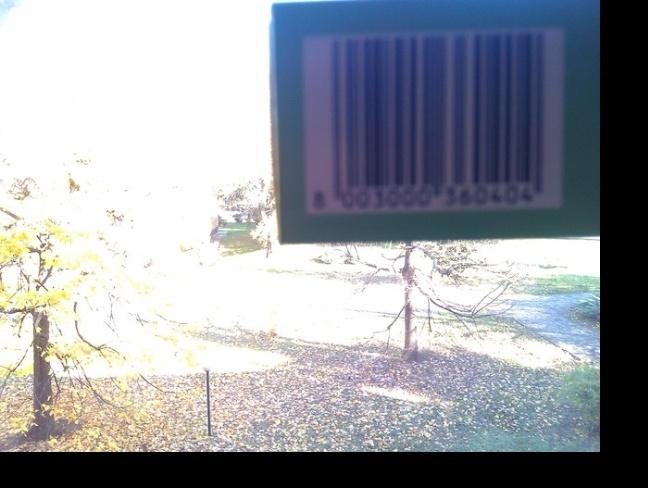Barcode: (301, 24, 570, 209)
